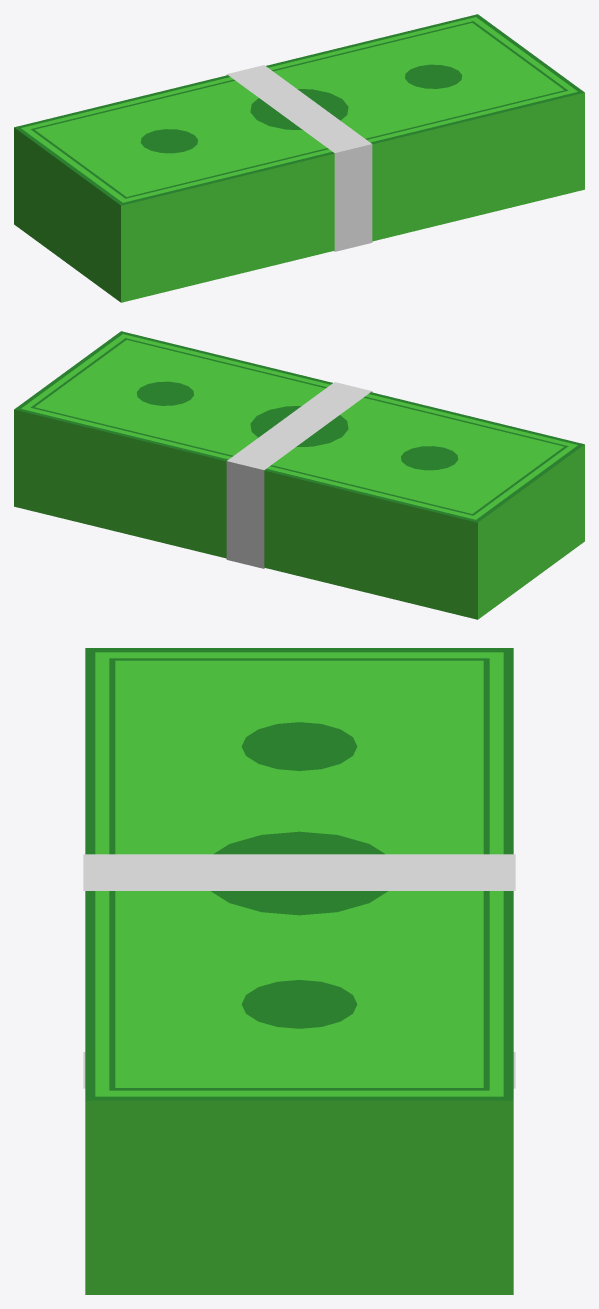
Rendered from Money.fbx.
The picture shows the model from 3 angles, top to bottom: view 1: azimuth 30°, elevation 25°; view 2: azimuth 150°, elevation 25°; view 3: azimuth 270°, elevation 25°; orthographic projection. The views are drawn at different scales.
Parts seen in each view (by area): view 1: Money; view 2: Money; view 3: Money.
Part boxes in pixels (<box>): Money: <box>14,14,584,302</box>; Money: <box>14,331,584,619</box>; Money: <box>83,648,515,1294</box>.
Size of the model in its own units: 50 by 10.17 by 20.16.
